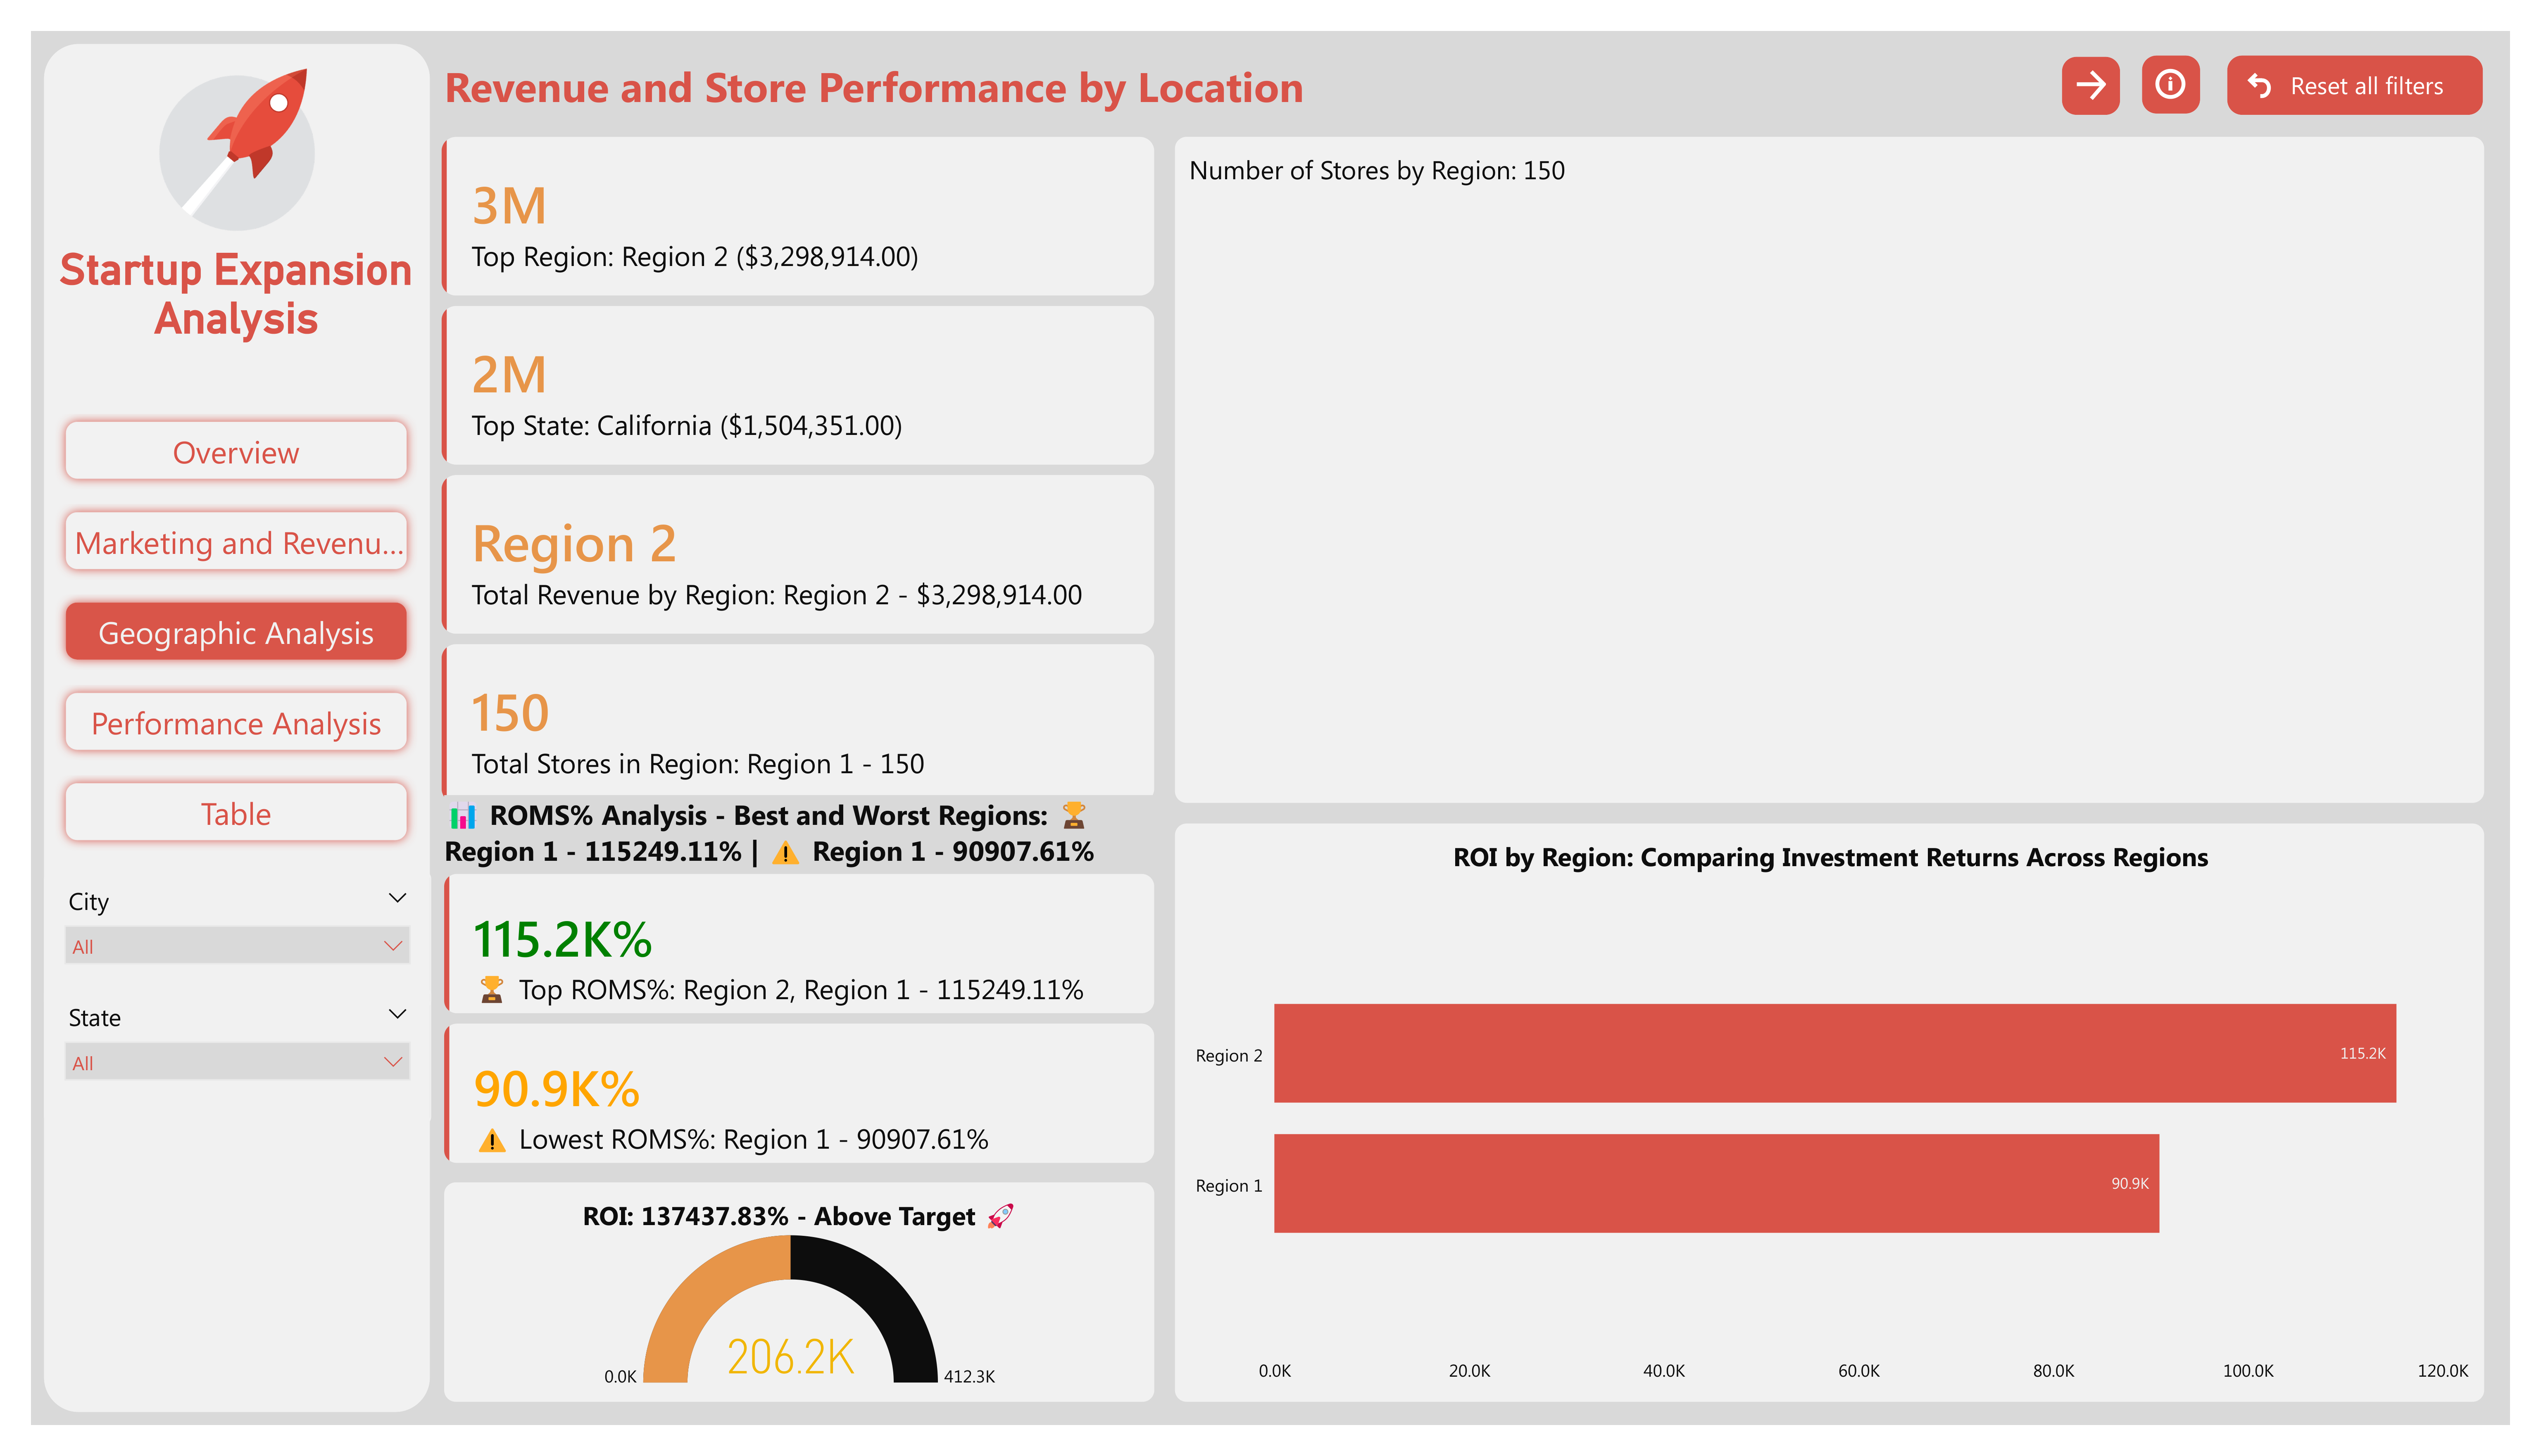

The page's visual inventory and layout, read from the dashboard file:
{"tool":"powerbi","page":{"name":"Geographic Analysis","canvas":[1920,1080],"ordinal":2},"visuals":[{"type":"shape","box":[0,0,318.5,1079.6],"z":0},{"type":"image","box":[0,18.5,318.5,146.3],"z":1000},{"type":"actionButton","title":"reset button","box":[1701,19,198.1,46.3],"z":2000},{"type":"actionButton","title":"info button","box":[1635,19,45,45],"z":3000},{"type":"group","title":"Buttons Menu","box":[18.5,194.4,240,420.1],"z":4000},{"type":"pageNavigator","box":[9.3,285,300,364],"z":5000},{"type":"textbox","box":[9.3,164.8,300,87],"z":6000},{"type":"textbox","title":"Title","box":[320.4,20.4,705.6,72.2],"z":7000},{"type":"cardVisual","fields":{"Data":["All measures.Top Region Revenue","All measures.Top State by Revenue","All measures.Top Region Title","All measures.Total Stores by Region"]},"box":[318,82,552,516],"z":8000},{"type":"heatmapF244EA9EE1F34E828A80CF19B41976F8","fields":{"latitude":["All measures.Store Count by Region"],"location":["Sales.State"]},"box":[886,82,1014,516],"z":9000},{"type":"barChart","fields":{"Category":["startups-expansion-modified.Sales Region"],"Y":["Sum(startups-expansion-modified.ROI)"]},"box":[886,614,1014,448],"z":10000},{"type":"cardVisual","fields":{"Data":["All measures.Top ROMS%","All measures.Bottom ROMS%"]},"box":[320,592,550,286],"z":11000},{"type":"gauge","fields":{"Y":["Sum(startups-expansion-modified.ROI)"]},"box":[320,892,550,170],"z":12000},{"type":"actionButton","title":"info button","box":[1572.5,20,45,45],"z":13000},{"type":"slicer","fields":{"Values":["Sales.City"]},"box":[10,650,300,107.5],"z":14000},{"type":"slicer","fields":{"Values":["Sales.State"]},"box":[10,740,300,107.5],"z":15000}]}

Visuals, with their boxes in screenshot pixels (x1, y1, x2, y2):
shape: region(31, 31, 442, 1425)
image: region(31, 55, 442, 244)
"reset button" actionButton: region(2227, 55, 2483, 115)
"info button" actionButton: region(2142, 55, 2200, 114)
"Buttons Menu" group: region(55, 282, 365, 824)
pageNavigator: region(43, 399, 431, 869)
textbox: region(43, 244, 431, 356)
"Title" textbox: region(445, 57, 1356, 150)
cardVisual - All measures.Top Region Revenue x All measures.Top State by Revenue: region(442, 137, 1154, 803)
heatmapF244EA9EE1F34E828A80CF19B41976F8 - All measures.Store Count by Region x Sales.State: region(1175, 137, 2484, 803)
barChart - startups-expansion-modified.Sales Region x Sum(startups-expansion-modified.ROI): region(1175, 824, 2484, 1402)
cardVisual - All measures.Top ROMS% x All measures.Bottom ROMS%: region(444, 795, 1154, 1164)
gauge - Sum(startups-expansion-modified.ROI): region(444, 1182, 1154, 1402)
"info button" actionButton: region(2061, 57, 2120, 115)
slicer - Sales.City: region(44, 870, 431, 1009)
slicer - Sales.State: region(44, 986, 431, 1125)
